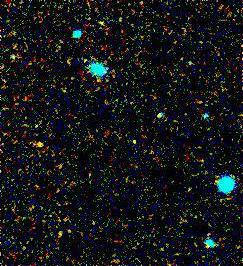star: (19, 128, 49, 158)
